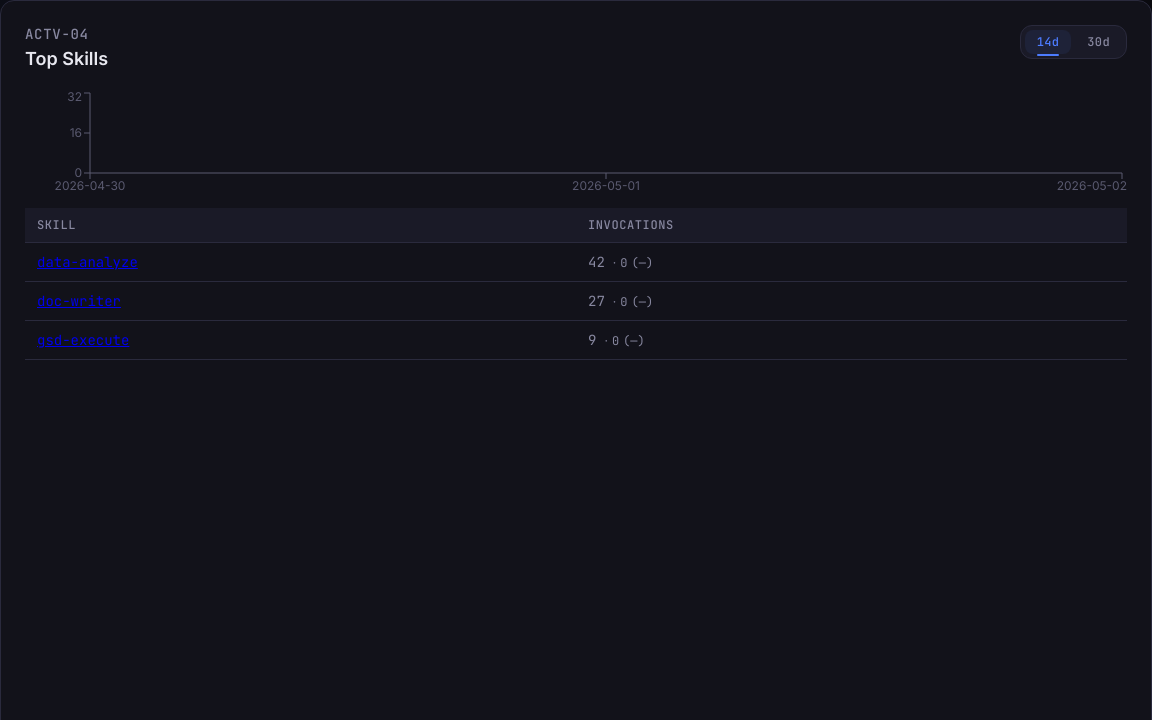
TopSkills (Phase 14 Plan 03 reactivation) › RangeToggle exposes 14d / 30d buttons and clicking 30d rebinds the query (asserted via cache lookup)
Expected: the button "14d" is shown, [1025,30,1071,54]
Click the button "30d".
click(1099, 42)  # box [1075,30,1122,54]
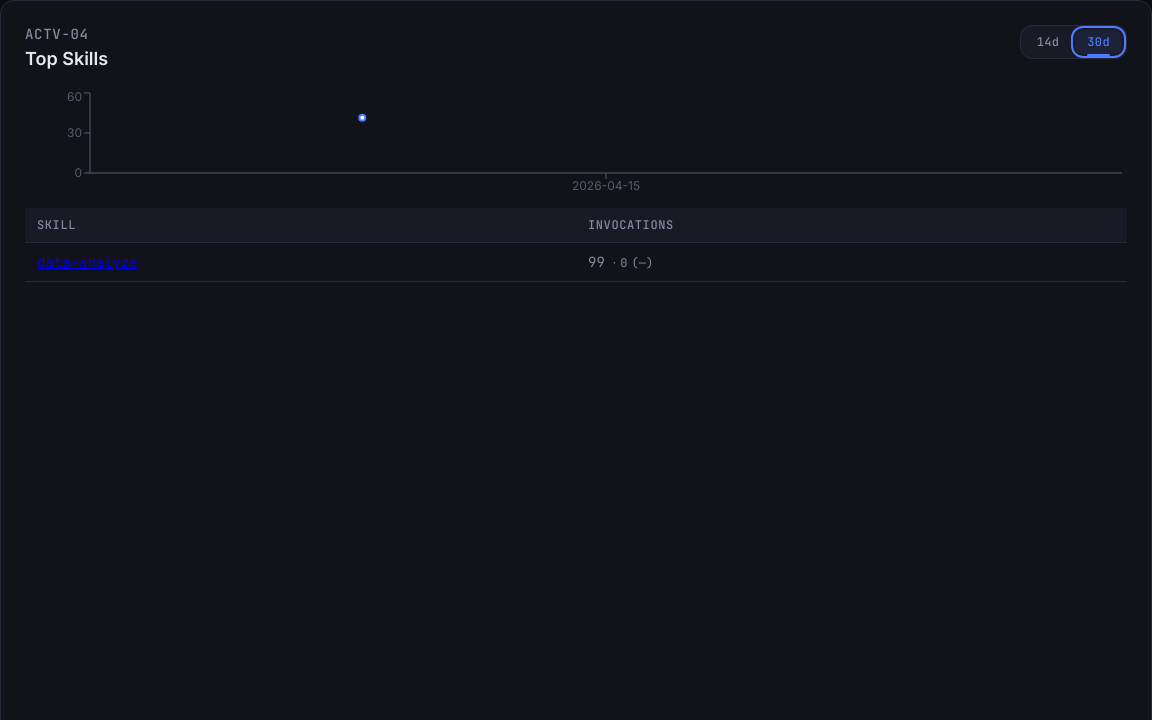
Now the text "99" is shown, box [588,252,605,273]
